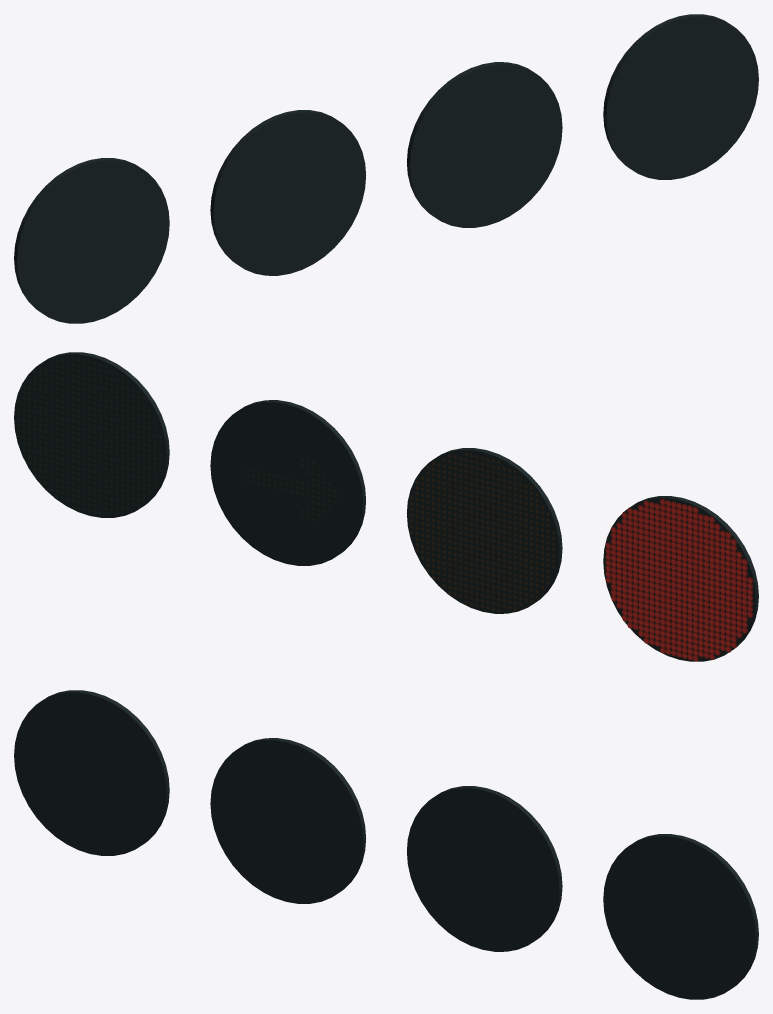
Rendered from lens.glb.
3 views of the same model, one above another, from view 1: azimuth 30°, elevation 25°; view 2: azimuth 150°, elevation 25°; view 3: azimuth 330°, elevation 25° (orthographic).
Visible parts, largest first — view 1: lens; view 2: lens; view 3: lens.
Part boxes in pixels (x1,y1,x2,y2): lens: (14, 14, 758, 323); lens: (14, 352, 758, 661); lens: (14, 690, 758, 999).
Size of the model in its own units: 1.39 by 0.2859 by 0.012.
